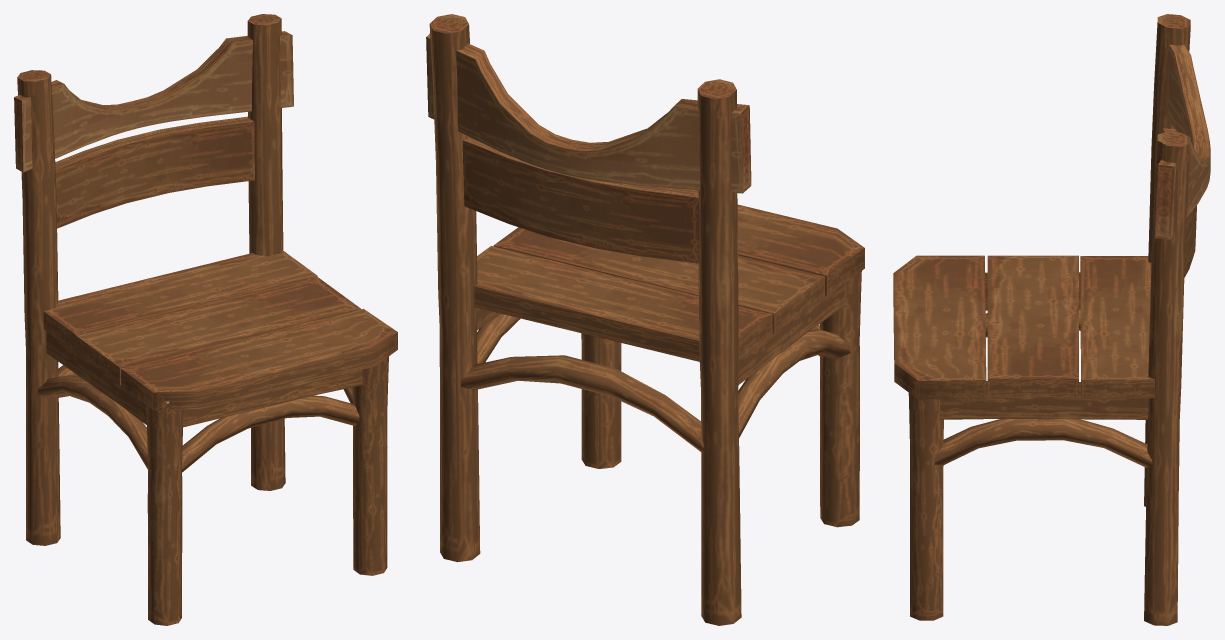
File: Chair_2.fbx
3 views of the same model, side by side, from view 1: azimuth 30°, elevation 25°; view 2: azimuth 150°, elevation 25°; view 3: azimuth 270°, elevation 25° (orthographic). The views are drawn at different scales.
Visible parts, largest first — view 1: Chair_2; view 2: Chair_2; view 3: Chair_2.
Part boxes in pixels (<box>): Chair_2: <box>14,14,397,625</box>; Chair_2: <box>426,14,864,625</box>; Chair_2: <box>893,14,1210,625</box>.
Size of the model in its own units: 60.77 by 98.99 by 58.94.
